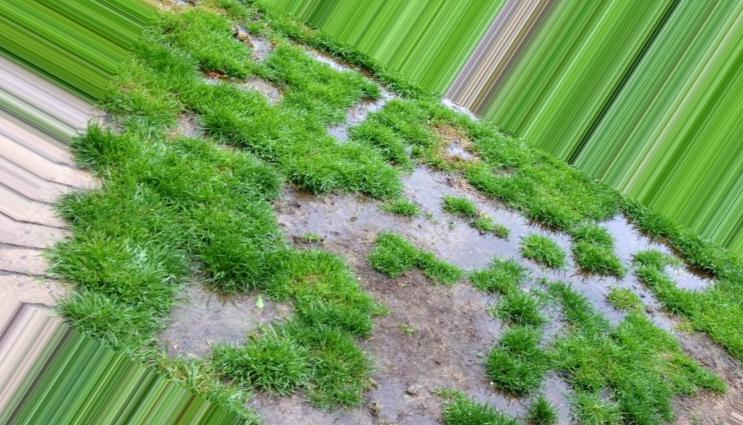patch: (396, 290, 468, 389), (301, 199, 360, 250), (279, 402, 421, 423), (176, 304, 234, 340), (397, 218, 462, 238), (615, 227, 637, 258)
